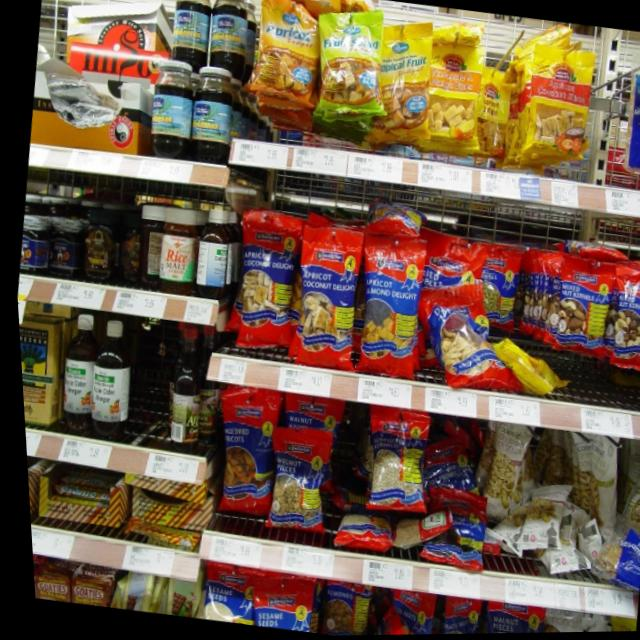q55: (15, 318, 66, 436)
